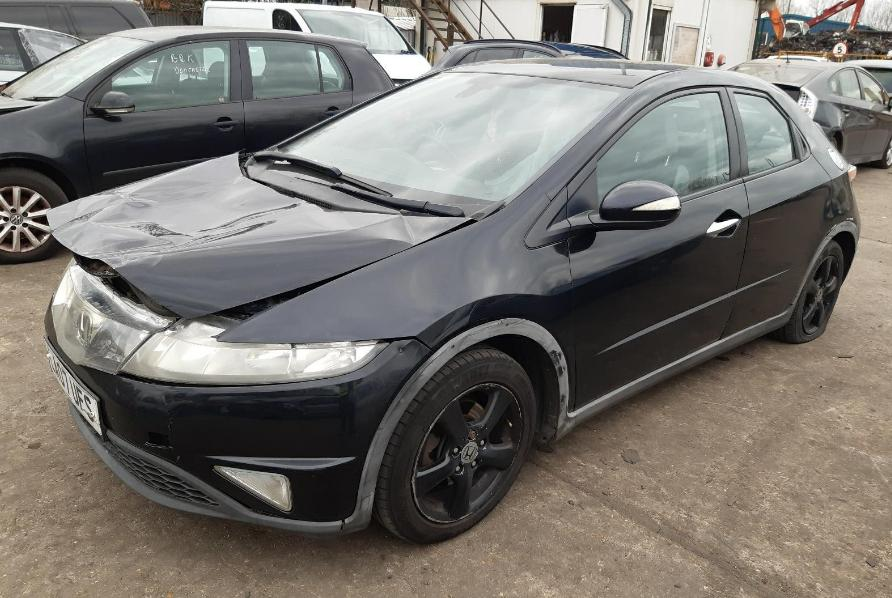Back-door: (721, 80, 833, 339)
Back-wheel: (765, 239, 844, 343)
Back-window: (734, 92, 809, 176)
Fender: (210, 182, 577, 414)
Front-bumper: (44, 292, 443, 534)
Front-door: (542, 74, 749, 408)
Front-wheel: (372, 347, 537, 544)
Front-window: (596, 92, 730, 221)
Grille: (68, 400, 261, 526)
Headlight: (116, 315, 391, 387)
Hood: (48, 151, 476, 318)
License-plate: (44, 337, 103, 439)
Mirror: (524, 156, 682, 248)
Quarter-panel: (812, 146, 861, 253)
Rocker-panel: (558, 308, 795, 441)
Roof: (439, 57, 767, 94)
Tail-light: (847, 163, 857, 185)
Windshield: (281, 71, 635, 206)
